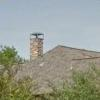Chimney: (21, 27, 47, 67)
